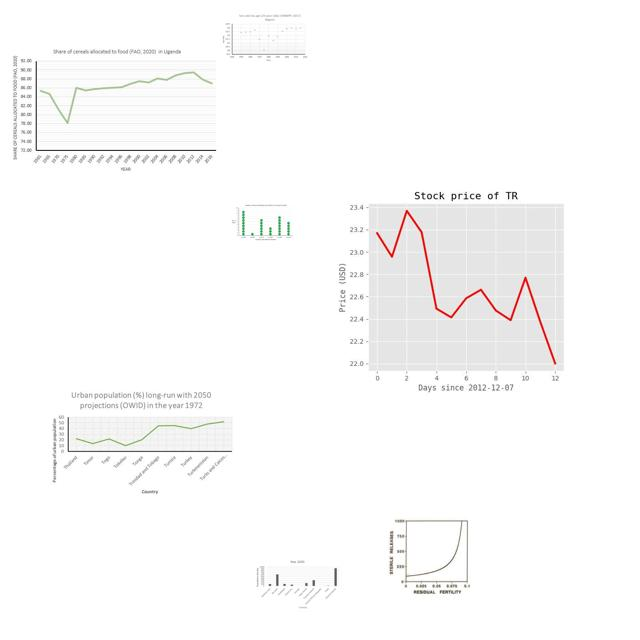Graph: (317, 177, 608, 395), (8, 45, 221, 176), (50, 388, 235, 497), (388, 516, 472, 600), (253, 558, 342, 612), (222, 12, 309, 62), (230, 203, 294, 242)
